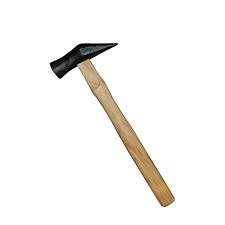hammer: (48, 38, 185, 208)
